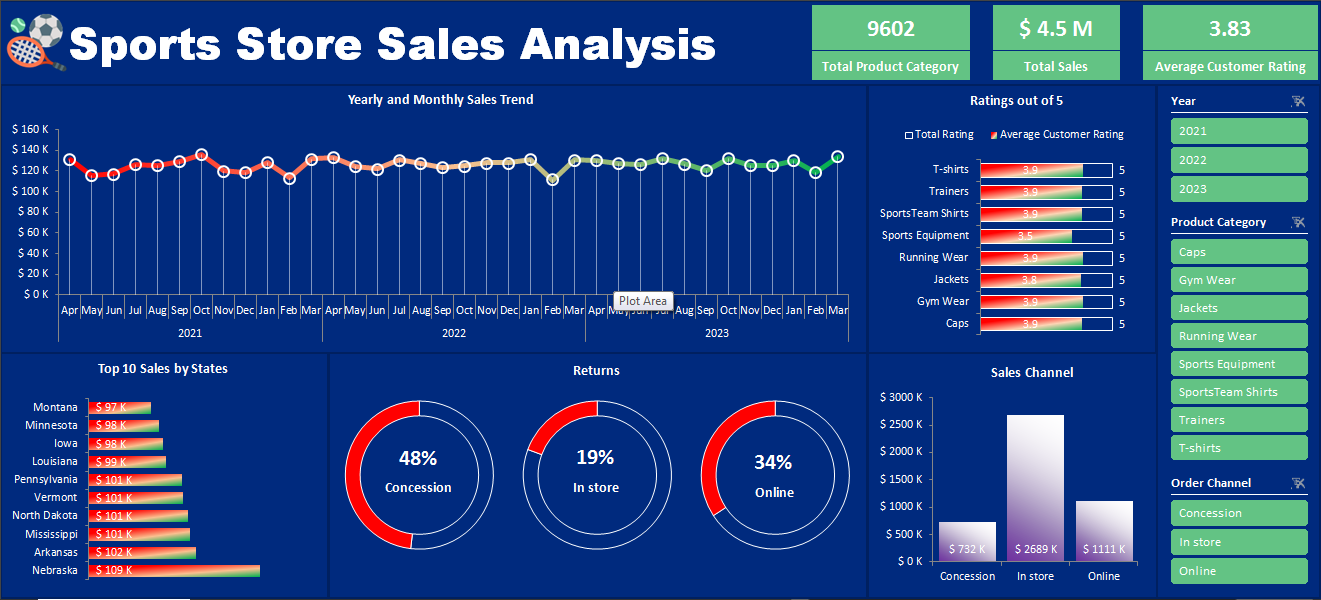

The page's visual inventory and layout, read from the dashboard file:
{"tool":"powerbi","page":{"name":"Sports Store Sales Analysis","canvas":[3300,1800],"ordinal":0},"visuals":[{"type":"shape","box":[10,0,3286.7,308.3],"z":0},{"type":"card","fields":{"Values":["Sports Store Sales Analysis.Total Sales"]},"box":[1466.5,9.7,599.3,287.5],"z":1000},{"type":"card","fields":{"Values":["Sports Store Sales Analysis.Total Product Category"]},"box":[2075.5,9.7,599.3,287.5],"z":2000},{"type":"card","fields":{"Values":["Sports Store Sales Analysis.Average Customer Rating"]},"box":[2684.5,9.7,599.3,287.5],"z":3000},{"type":"textbox","box":[243.6,73.1,1183.9,155.9],"z":4000},{"type":"image","box":[31.8,47.7,198.8,206.8],"z":5000},{"type":"lineChart","title":"Monthly Sales Trend","fields":{"Category":["Sports Store Sales Analysis.Month"],"Y":["Sports Store Sales Analysis.Total Sales"]},"box":[9.7,321.8,1833.1,706.5],"z":6000},{"type":"barChart","title":"Ratings  out of 5","fields":{"Category":["Sports Store Sales Analysis.Product Category"],"Y":["Sports Store Sales Analysis.Average Customer Rating","Count(Sports Store Sales Analysis.Customer Rating No)"]},"box":[1856.7,321.7,959.2,706.7],"z":7000},{"type":"slicer","title":"Monthly Sales Trend","fields":{"Values":["Sports Store Sales Analysis.Year"]},"box":[2829.8,321.8,462.9,350],"z":8000},{"type":"slicer","title":"Monthly Sales Trend","fields":{"Values":["Sports Store Sales Analysis.Product Category"]},"box":[2829.8,679,462.9,719.4],"z":9000},{"type":"slicer","title":"Monthly Sales Trend","fields":{"Values":["Sports Store Sales Analysis.Order Channel"]},"box":[2829.8,1404.8,462.9,388.7],"z":10000},{"type":"clusteredColumnChart","title":"Sales Channel","fields":{"Category":["Sports Store Sales Analysis.Order Channel"],"Y":["Sports Store Sales Analysis.Total Sales"]},"box":[1862.5,1039.2,953.3,754.2],"z":11000},{"type":"clusteredBarChart","title":"Top 10 States by Sales","fields":{"Category":["Sports Store Sales Analysis.State"],"Y":["Sports Store Sales Analysis.Total Sales"]},"box":[10,1039.2,926.7,754.2],"z":12000},{"type":"donutChart","title":"Returns by Order Channel","fields":{"Y":["Sum(Sports Store Sales Analysis.Returns)"],"Category":["Sports Store Sales Analysis.Order Channel"]},"box":[945.2,1039.5,897.6,753.2],"z":13000}]}

Visuals, with their boxes on the page's 3300x1800 design canvas (x1, y1, x2, y2). These are canvas units, not pixel positions in the 1321x600 screenshot, which may show the page scaled, cropped or inside an application window:
shape: <box>10,0,3297,308</box>
card - Sports Store Sales Analysis.Total Sales: <box>1466,10,2066,297</box>
card - Sports Store Sales Analysis.Total Product Category: <box>2076,10,2675,297</box>
card - Sports Store Sales Analysis.Average Customer Rating: <box>2684,10,3284,297</box>
textbox: <box>244,73,1428,229</box>
image: <box>32,48,231,254</box>
"Monthly Sales Trend" lineChart: <box>10,322,1843,1028</box>
"Ratings  out of 5" barChart: <box>1857,322,2816,1028</box>
"Monthly Sales Trend" slicer: <box>2830,322,3293,672</box>
"Monthly Sales Trend" slicer: <box>2830,679,3293,1398</box>
"Monthly Sales Trend" slicer: <box>2830,1405,3293,1794</box>
"Sales Channel" clusteredColumnChart: <box>1862,1039,2816,1793</box>
"Top 10 States by Sales" clusteredBarChart: <box>10,1039,937,1793</box>
"Returns by Order Channel" donutChart: <box>945,1040,1843,1793</box>
